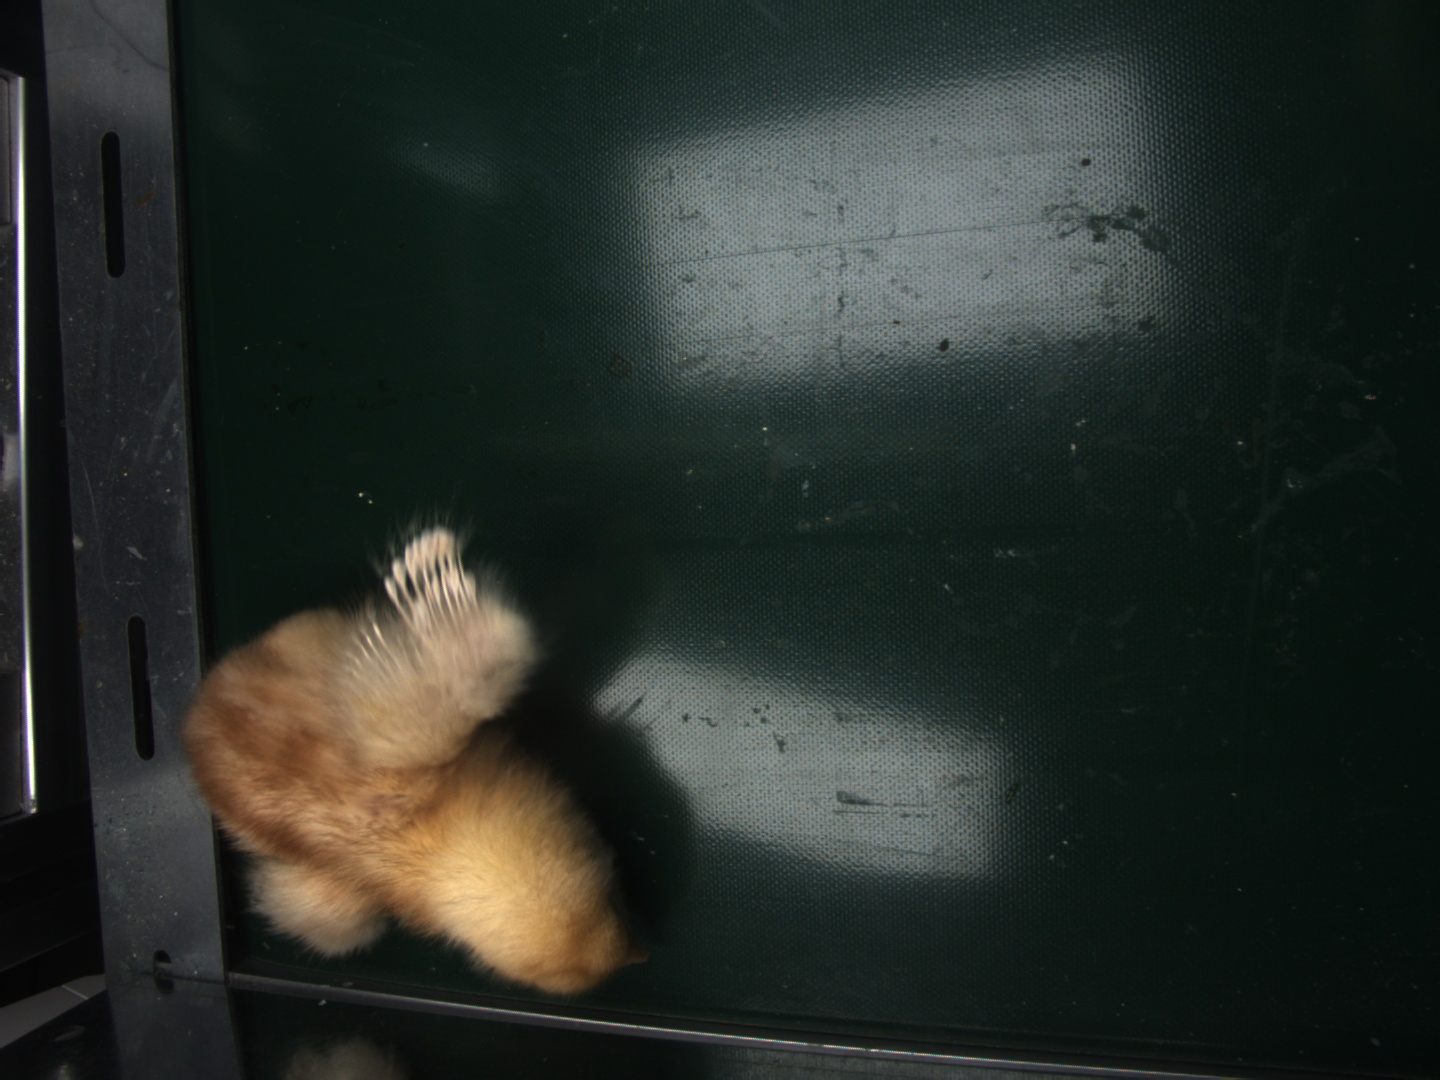female: (386, 528, 476, 621)
